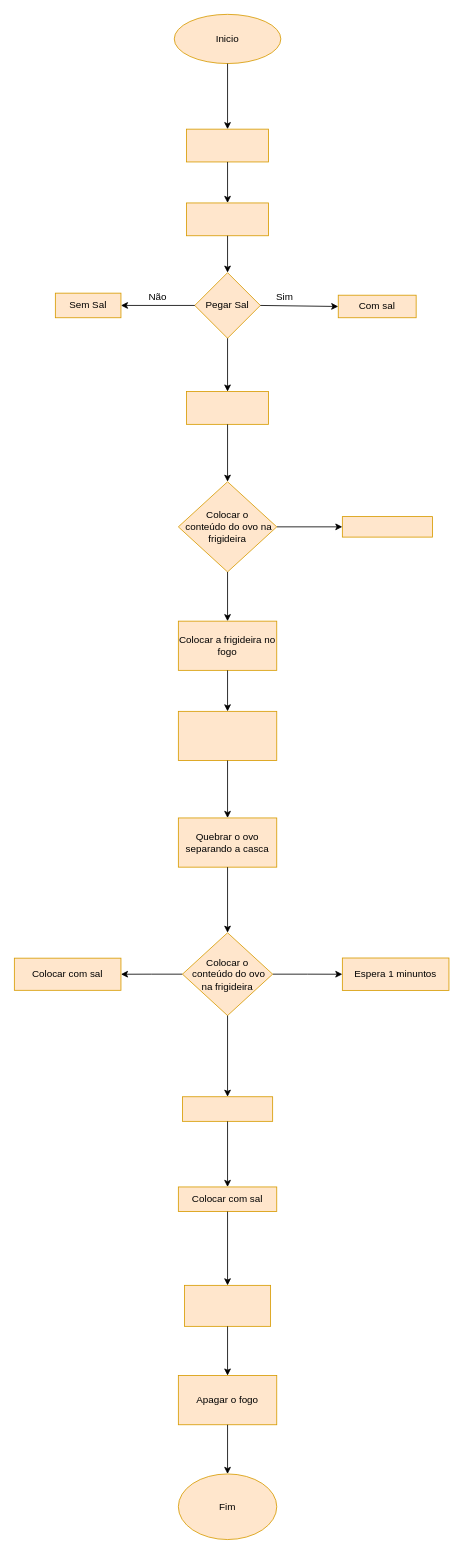
Image size: 463x1554. Some labels were removed from this diagram. Each missing label, with the box of its shape:
Cozinhe: (342, 516, 433, 537)
Espera o óleo esquentar: (178, 711, 277, 761)
Esperar fritar: (182, 1096, 273, 1121)
Ligar fogão: (186, 391, 269, 424)
Pegar manteiga: (186, 202, 269, 236)
Pegar um ovo: (186, 128, 269, 162)
Retirar o ovo da frigideira: (184, 1285, 271, 1326)
